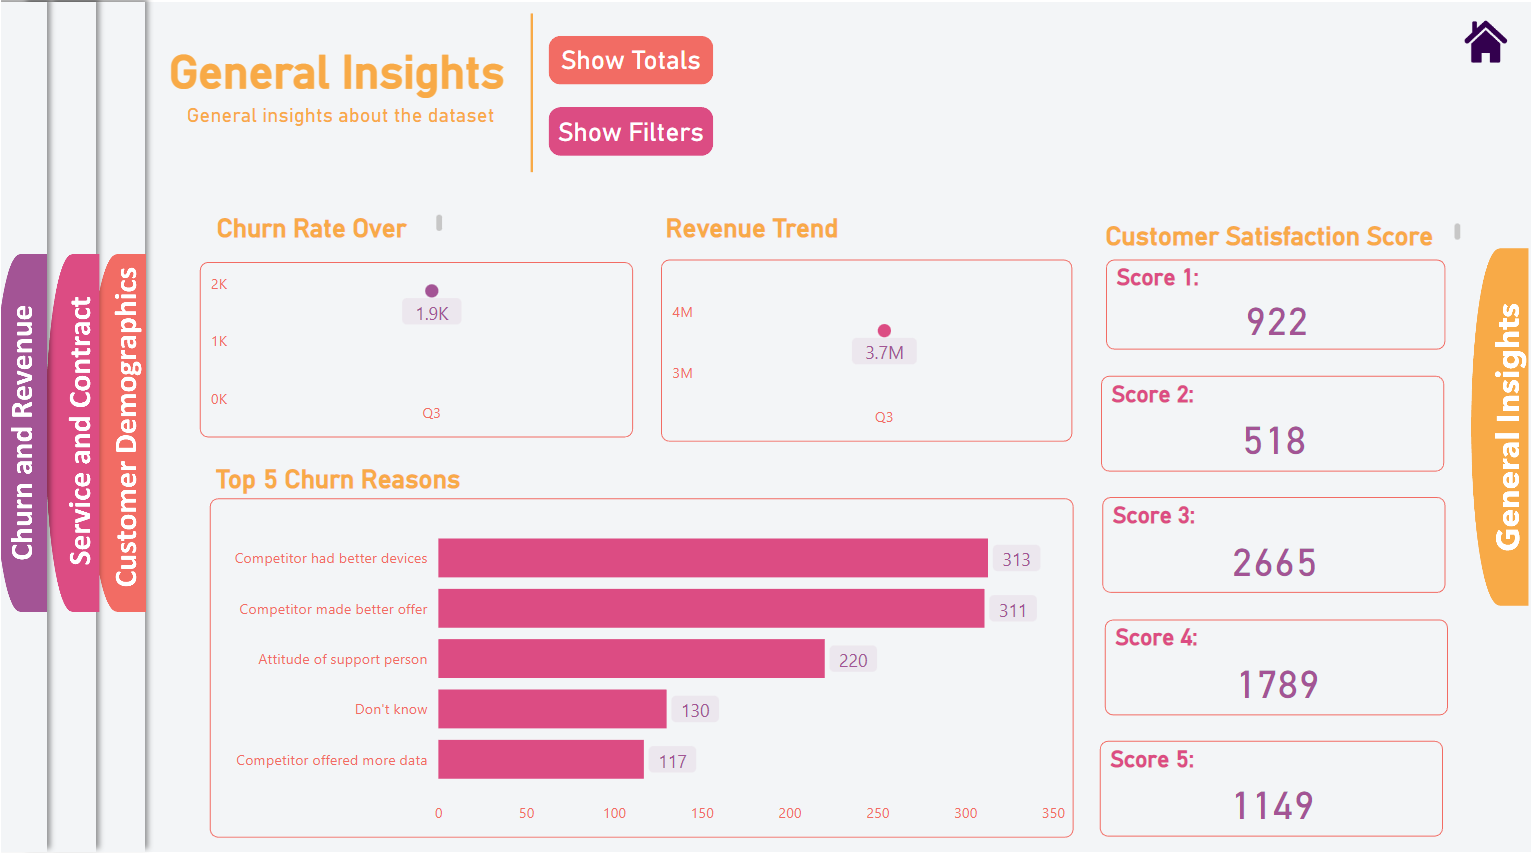

The dashboard page shown, as its layout file describes it:
{"tool":"powerbi","page":{"name":"General Insights","canvas":[1280,720],"ordinal":1},"visuals":[{"type":"image","box":[0,0,1280,719.8],"z":0},{"type":"textbox","box":[135.8,39.6,301.1,64.4],"z":0,"group":"g3"},{"type":"lineChart","fields":{"Category":["Services_Dim.Quarter"],"Y":["Sum(Telco_Churn_fact.Total Revenue)"]},"box":[551.1,223.2,343.3,151.8],"z":0,"group":"g2"},{"type":"lineChart","fields":{"Category":["Services_Dim.Quarter"],"Y":["Count(Telco_Churn_fact.CustomerID)"]},"box":[165.6,225.5,361.4,146.6],"z":0,"group":"g1"},{"type":"textbox","box":[150.5,87.9,293.5,33.3],"z":1000,"group":"g3"},{"type":"textbox","box":[175.5,179.8,199.4,36],"z":1000,"group":"g1"},{"type":"textbox","box":[549.9,179.8,195.4,36],"z":1000,"group":"g2"},{"type":"barChart","fields":{"Y":["Count(Telco_Churn_fact.CustomerID)"],"Category":["Status_Dim.Churn Reason"]},"box":[174.6,422.5,721,282.8],"z":1000},{"type":"textbox","box":[916.5,186.8,307.3,36.7],"z":2000},{"type":"shape","box":[424.3,18.2,36.4,133],"z":3000},{"type":"shape","title":"Show Totals","box":[456.9,36.2,137.4,40.5],"z":4000},{"type":"group","id":"g1","title":"Group 2","box":[165.6,179.8,361.4,192.4],"z":11000},{"type":"group","id":"g2","title":"Group 3","box":[549.9,179.8,345.7,195.5],"z":12000},{"type":"group","id":"g3","title":"Group 1","box":[135.8,39.6,308.2,81.5],"z":13000},{"type":"textbox","box":[174.6,389.3,293.3,66.3],"z":14000},{"type":"card","title":"Score 1:","fields":{"Values":["Count(Telco_Churn_fact.CustomerID)"]},"box":[921.8,223.5,282.8,75.1],"z":15000},{"type":"card","title":"Score 2:","fields":{"Values":["Count(Telco_Churn_fact.CustomerID)"]},"box":[917.9,319.9,286.3,80.3],"z":16000},{"type":"card","title":"Score 3:","fields":{"Values":["Count(Telco_Churn_fact.CustomerID)"]},"box":[919.2,421.6,286.3,80.3],"z":17000},{"type":"card","title":"Score 4:","fields":{"Values":["Count(Telco_Churn_fact.CustomerID)"]},"box":[920.5,523.3,286.3,80.3],"z":18000},{"type":"card","title":"Score 5:","fields":{"Values":["Count(Telco_Churn_fact.CustomerID)"]},"box":[916.5,625,286.3,80.3],"z":19000},{"type":"actionButton","box":[80.3,228.7,40.2,286.3],"z":20000},{"type":"actionButton","box":[40.2,223.5,40.2,286.3],"z":21000},{"type":"actionButton","box":[0,225.2,40.2,286.3],"z":22000},{"type":"slicer","fields":{"Values":["Status_Dim.Customer Status"]},"box":[630.2,96,626.7,47.1],"z":23000},{"type":"shape","title":"Hide Filters","box":[457.8,95.9,137.3,41.4],"z":24000},{"type":"image","box":[1205.7,10,65.7,61.4],"z":25000,"group":"g4"},{"type":"actionButton","box":[1204.3,21.4,67.1,40],"z":26000,"group":"g4"},{"type":"group","id":"g4","title":"Group 5","box":[1204.3,10,67.1,61.4],"z":26001}]}

Visuals, with their boxes in screenshot pixels (x1, y1, x2, y2), scaled from the page's 1280x720 canvas onto the 1531x853 screenshot:
image: [0,0,1530,852]
textbox: [162,47,523,123]
lineChart - Services_Dim.Quarter x Sum(Telco_Churn_fact.Total Revenue): [659,264,1070,444]
lineChart - Services_Dim.Quarter x Count(Telco_Churn_fact.CustomerID): [198,267,630,441]
textbox: [180,104,531,144]
textbox: [210,213,448,256]
textbox: [658,213,891,256]
barChart - Count(Telco_Churn_fact.CustomerID) x Status_Dim.Churn Reason: [209,501,1071,836]
textbox: [1096,221,1464,265]
shape: [508,22,551,179]
"Show Totals" shape: [546,43,711,91]
"Group 2" group: [198,213,630,441]
"Group 3" group: [658,213,1071,445]
"Group 1" group: [162,47,531,143]
textbox: [209,461,560,540]
"Score 1:" card: [1103,265,1441,354]
"Score 2:" card: [1098,379,1440,474]
"Score 3:" card: [1099,499,1442,595]
"Score 4:" card: [1101,620,1443,715]
"Score 5:" card: [1096,740,1439,836]
actionButton: [96,271,144,610]
actionButton: [48,265,96,604]
actionButton: [0,267,48,606]
slicer - Status_Dim.Customer Status: [754,114,1503,170]
"Hide Filters" shape: [548,114,712,163]
image: [1442,12,1521,85]
actionButton: [1440,25,1521,73]
"Group 5" group: [1440,12,1521,85]
